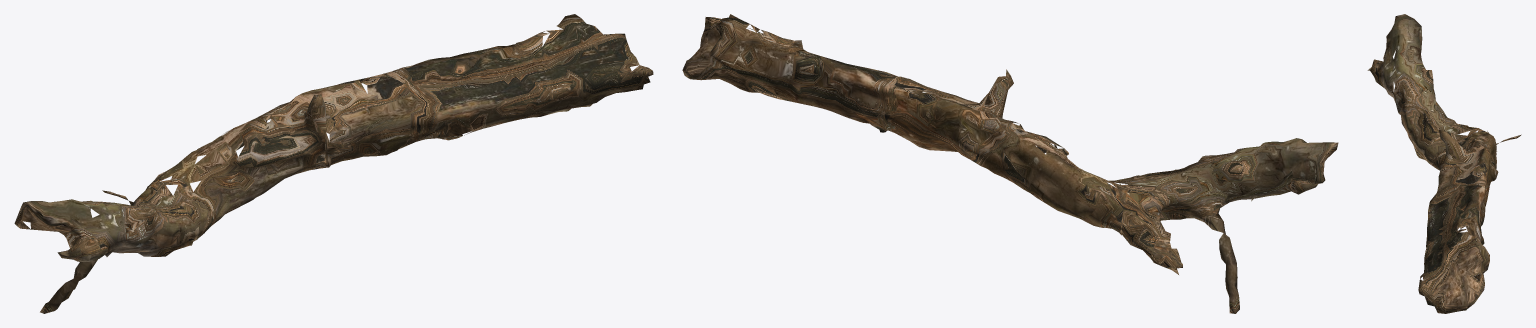
File: las_kloda.glb
3 renders of one model, left to right at view 1: azimuth 30°, elevation 25°; view 2: azimuth 150°, elevation 25°; view 3: azimuth 270°, elevation 25°, orthographic. The views are drawn at different scales.
Visible parts, largest first — view 1: pien; view 2: pien; view 3: pien.
Boxes of the visible parts, x1,y1,x2,y2 form: pien: (14, 14, 653, 313); pien: (682, 14, 1338, 313); pien: (1367, 14, 1521, 313).
Bounding box in the file's own units: 4.01 × 1.04 × 1.03.
Materials: 1 (1 with a texture image).
